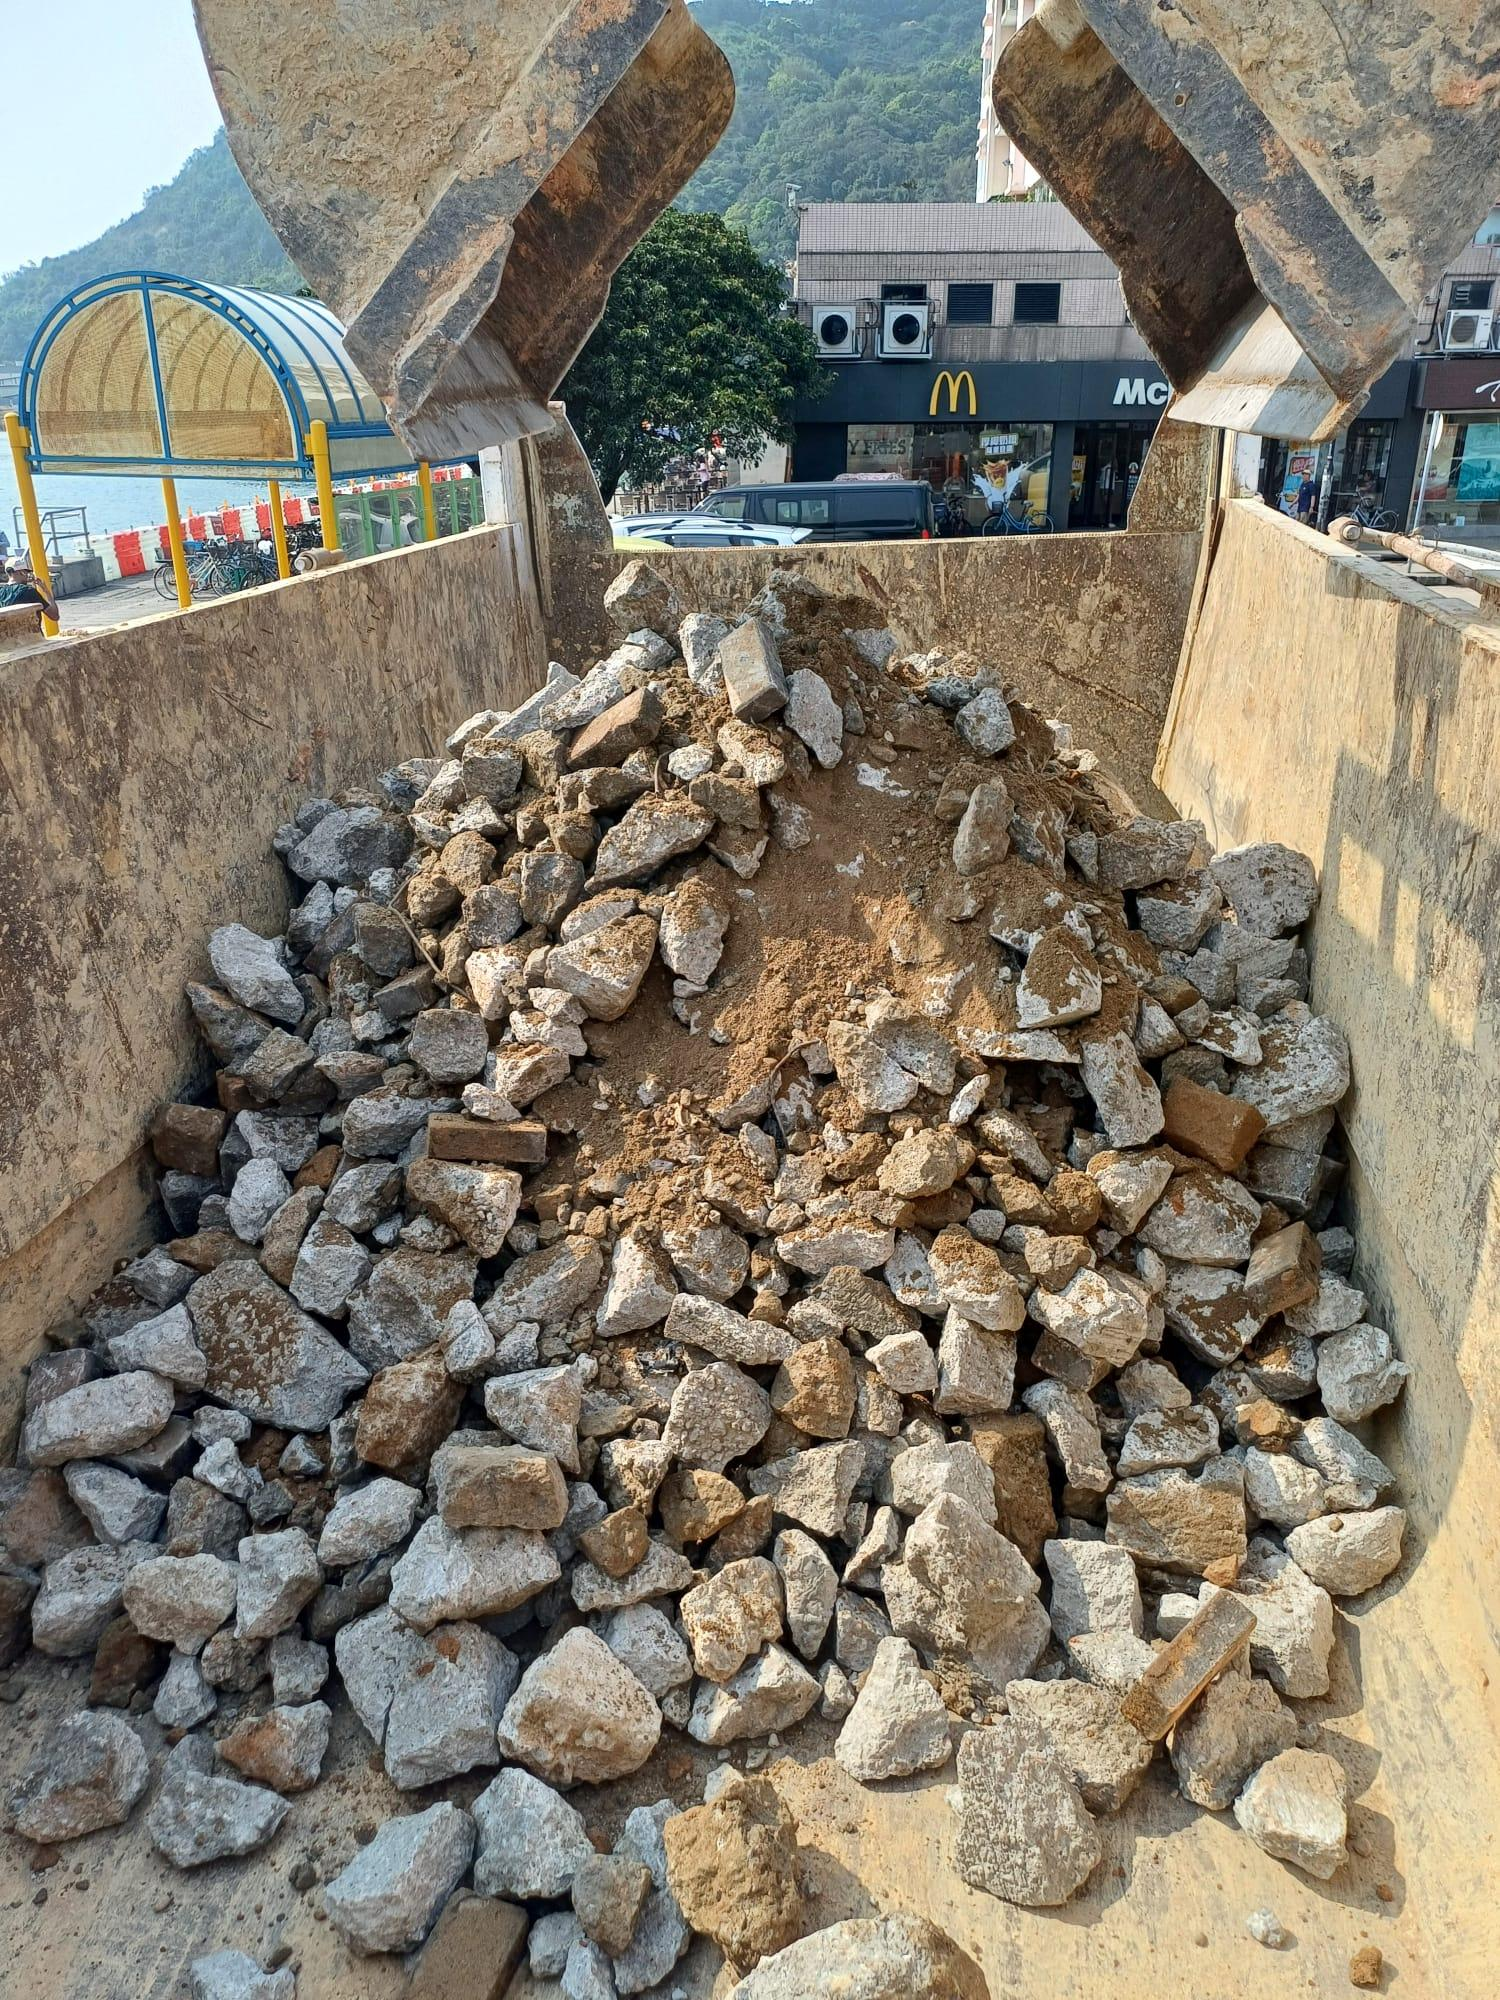dry: (120, 594, 1363, 1850)
